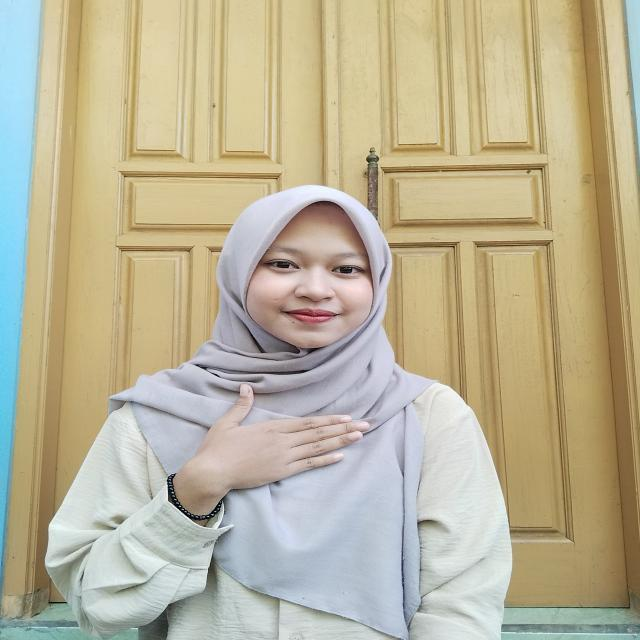tolong: (152, 382, 376, 530)
